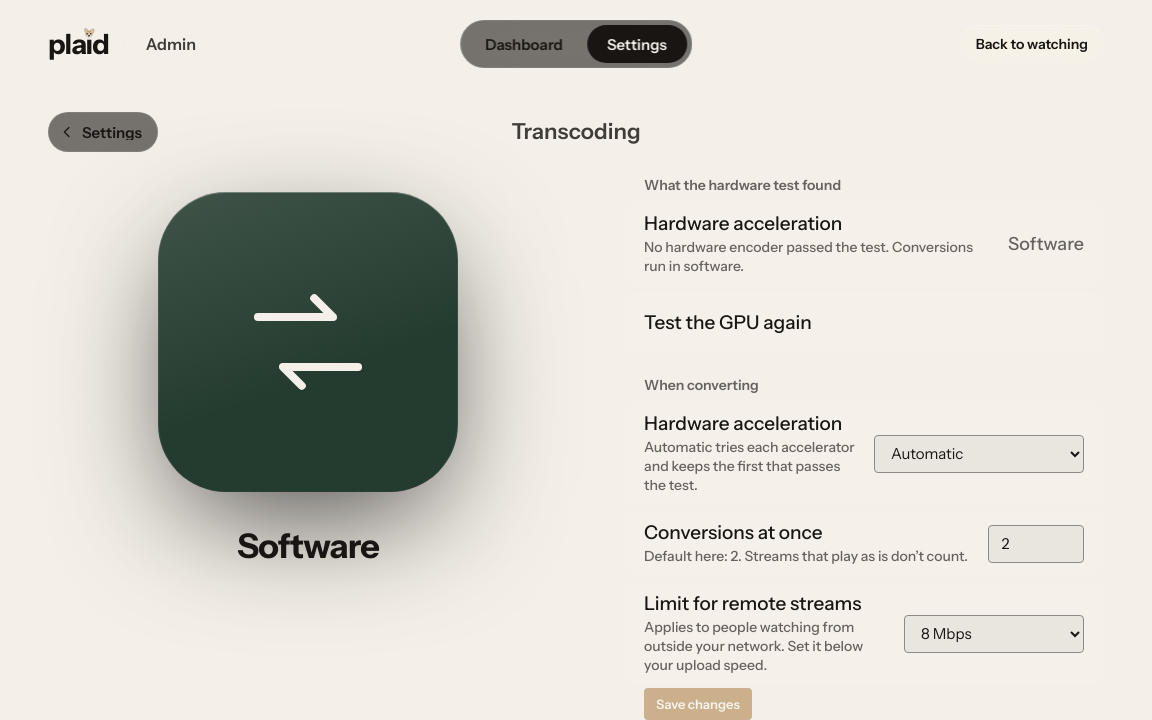
transcoding › sends only what changed, saved with one button
Replace the text in the field labelled "Conversions at once" with "3" at (1036, 544), box [988,524,1084,562]
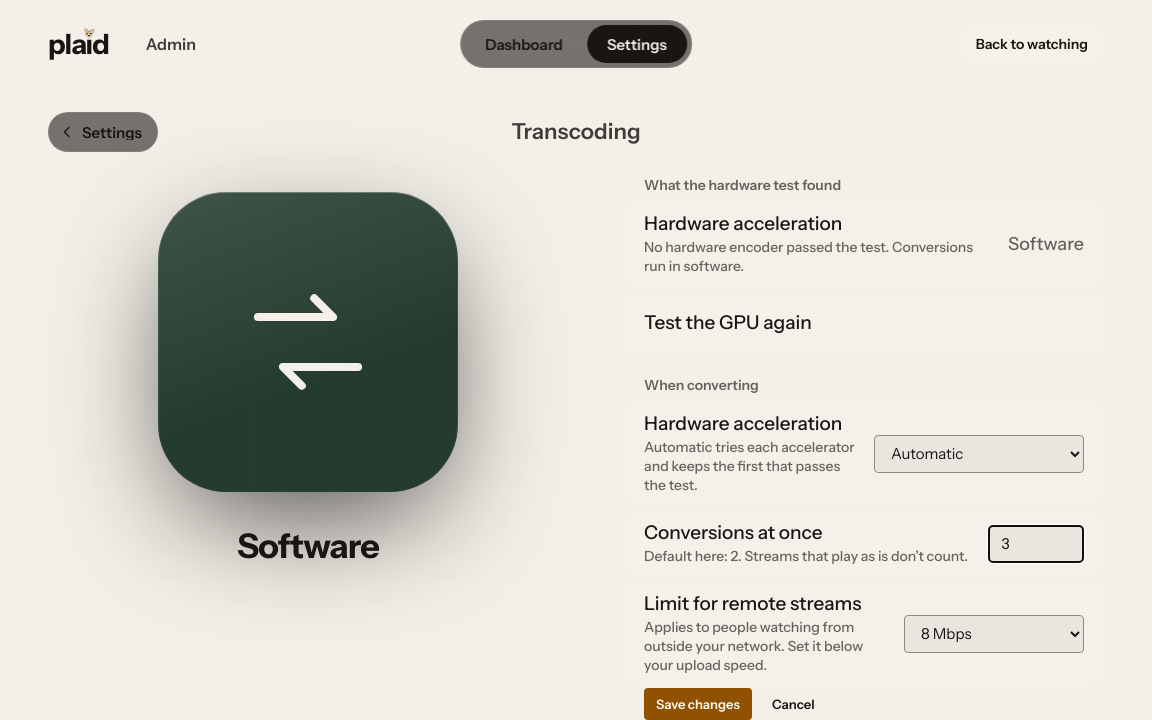
Click the button "Save changes".
click(698, 704)  # box [644,688,752,719]
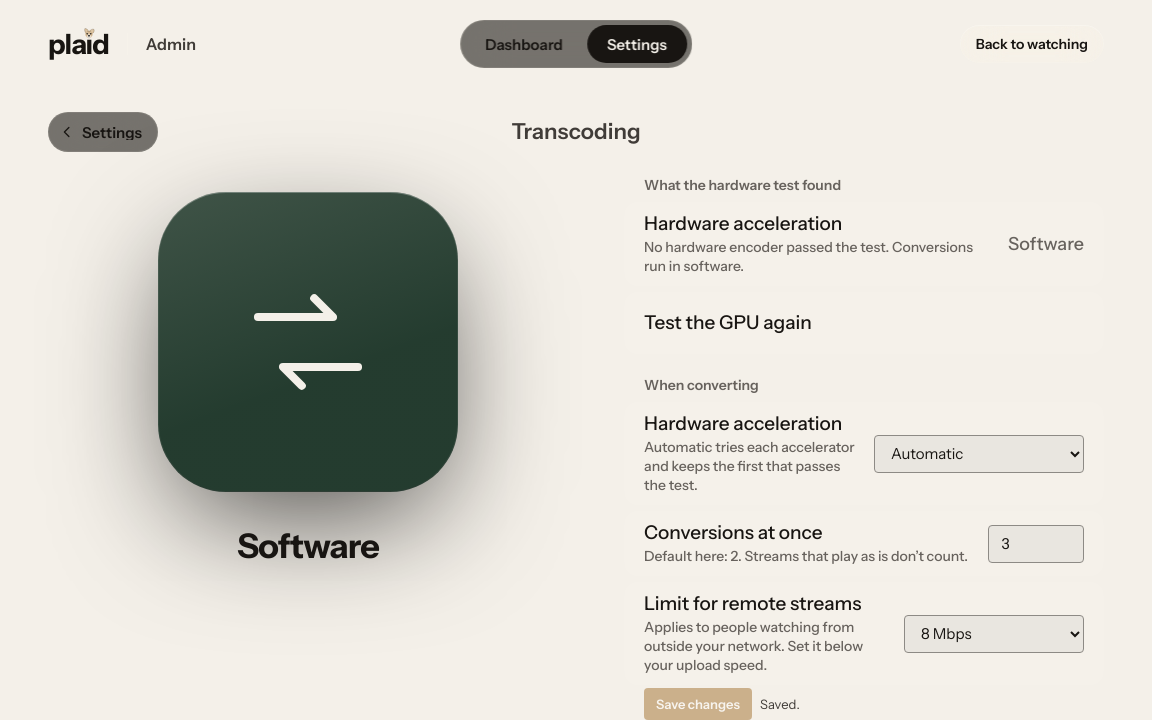
Check: the text "Saved." is shown, box [760,694,800,714]
